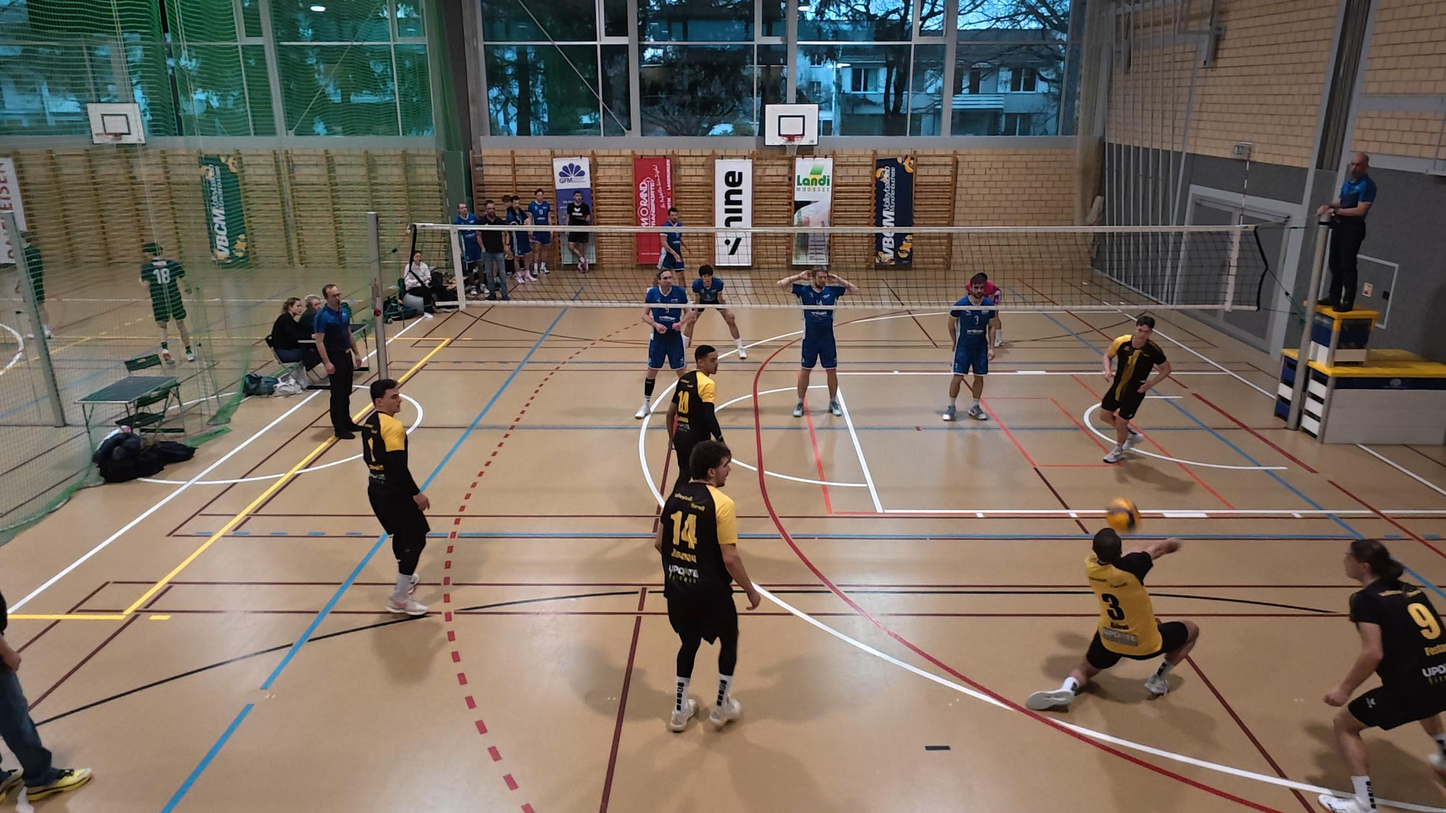Player: (1316, 540, 1446, 813), (655, 439, 759, 732), (360, 377, 433, 617), (1090, 312, 1172, 463), (779, 269, 854, 417), (663, 343, 731, 494), (635, 269, 691, 419), (941, 280, 994, 422), (686, 262, 748, 359), (967, 271, 1005, 352), (656, 203, 690, 287)
Receive: (1021, 525, 1204, 714)
ball: (1104, 500, 1142, 531)
